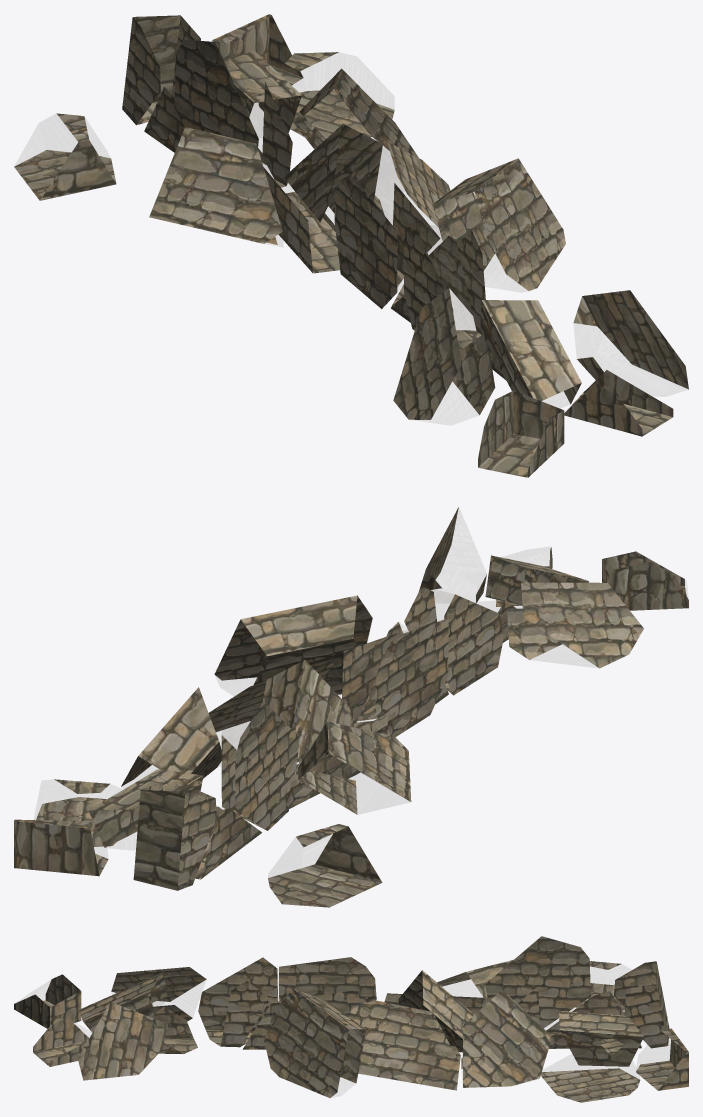
Rendered from BreakWallLarge_000022.obj.
3 views of the same model, one above another, from view 1: azimuth 30°, elevation 25°; view 2: azimuth 150°, elevation 25°; view 3: azimuth 270°, elevation 25° (orthographic). The views are drawn at different scales.
Visible parts, largest first — view 1: Cube.057_cell.017_Cube.057_cell.016, Cube.057_cell.018_Cube.057_cell.017, Cube.057_cell.014_Cube.057_cell.013, Cube.057_cell.021_Cube.057_cell.020, Cube.057_cell.013_Cube.057_cell.012, Cube.057_cell.011_Cube.057_cell.010, Cube.057_cell.015_Cube.057_cell.014, Cube.057_cell.007_Cube.057_cell.006, Cube.057_cell.003_Cube.057_cell.002, Cube.057_cell_Cube.057_cell.022, Cube.057_cell.001_Cube.057_cell.000, Cube.057_cell.010_Cube.057_cell.009 (+9 smaller); view 2: Cube.057_cell.018_Cube.057_cell.017, Cube.057_cell.021_Cube.057_cell.020, Cube.057_cell.013_Cube.057_cell.012, Cube.057_cell.014_Cube.057_cell.013, Cube.057_cell.003_Cube.057_cell.002, Cube.057_cell.017_Cube.057_cell.016, Cube.057_cell.001_Cube.057_cell.000, Cube.057_cell.010_Cube.057_cell.009, Cube.057_cell.020_Cube.057_cell.019, Cube.057_cell_Cube.057_cell.022, Cube.057_cell.019_Cube.057_cell.018, Cube.057_cell.015_Cube.057_cell.014 (+8 smaller); view 3: Cube.057_cell.018_Cube.057_cell.017, Cube.057_cell.004_Cube.057_cell.003, Cube.057_cell.020_Cube.057_cell.019, Cube.057_cell.014_Cube.057_cell.013, Cube.057_cell.007_Cube.057_cell.006, Cube.057_cell.010_Cube.057_cell.009, Cube.057_cell.013_Cube.057_cell.012, Cube.057_cell.016_Cube.057_cell.015, Cube.057_cell.003_Cube.057_cell.002, Cube.057_cell.012_Cube.057_cell.011, Cube.057_cell_Cube.057_cell.022, Cube.057_cell.015_Cube.057_cell.014 (+10 smaller).
Part boxes in pixels (box(x1,y1,x2,y2)): Cube.057_cell.017_Cube.057_cell.016: box(149, 127, 282, 244); Cube.057_cell.018_Cube.057_cell.017: box(432, 158, 565, 290); Cube.057_cell.014_Cube.057_cell.013: box(174, 39, 292, 187); Cube.057_cell.021_Cube.057_cell.020: box(393, 288, 495, 419); Cube.057_cell.013_Cube.057_cell.012: box(334, 175, 440, 308); Cube.057_cell.011_Cube.057_cell.010: box(480, 300, 581, 404); Cube.057_cell.015_Cube.057_cell.014: box(478, 390, 564, 477); Cube.057_cell.007_Cube.057_cell.006: box(573, 290, 688, 389); Cube.057_cell.003_Cube.057_cell.002: box(122, 15, 200, 125); Cube.057_cell_Cube.057_cell.022: box(284, 124, 382, 222); Cube.057_cell.001_Cube.057_cell.000: box(14, 113, 116, 200); Cube.057_cell.010_Cube.057_cell.009: box(404, 223, 485, 350); Cube.057_cell.018_Cube.057_cell.017: box(214, 595, 372, 694); Cube.057_cell.021_Cube.057_cell.020: box(506, 582, 643, 668); Cube.057_cell.013_Cube.057_cell.012: box(342, 618, 448, 736); Cube.057_cell.014_Cube.057_cell.013: box(221, 701, 298, 830); Cube.057_cell.003_Cube.057_cell.002: box(133, 782, 216, 890); Cube.057_cell.017_Cube.057_cell.016: box(298, 721, 411, 814); Cube.057_cell.001_Cube.057_cell.000: box(268, 824, 382, 907); Cube.057_cell.010_Cube.057_cell.009: box(404, 586, 503, 695); Cube.057_cell.020_Cube.057_cell.019: box(121, 687, 221, 786); Cube.057_cell_Cube.057_cell.022: box(262, 659, 354, 762); Cube.057_cell.019_Cube.057_cell.018: box(14, 819, 108, 876); Cube.057_cell.015_Cube.057_cell.014: box(602, 551, 688, 610); Cube.057_cell.018_Cube.057_cell.017: box(264, 989, 366, 1097); Cube.057_cell.004_Cube.057_cell.003: box(349, 1000, 460, 1090); Cube.057_cell.020_Cube.057_cell.019: box(461, 989, 552, 1087); Cube.057_cell.014_Cube.057_cell.013: box(485, 936, 590, 1028); Cube.057_cell.007_Cube.057_cell.006: box(77, 1002, 167, 1080); Cube.057_cell.010_Cube.057_cell.009: box(198, 957, 277, 1047); Cube.057_cell.013_Cube.057_cell.012: box(279, 957, 376, 1016); Cube.057_cell.016_Cube.057_cell.015: box(559, 1011, 643, 1066); Cube.057_cell.003_Cube.057_cell.002: box(614, 961, 669, 1048); Cube.057_cell.012_Cube.057_cell.011: box(540, 1039, 640, 1102); Cube.057_cell_Cube.057_cell.022: box(398, 970, 474, 1052); Cube.057_cell.015_Cube.057_cell.014: box(14, 974, 81, 1028).
Bounding box in the file's own units: 29.89 × 11.1 × 70.33.
Materials: 2 (2 with a texture image).
